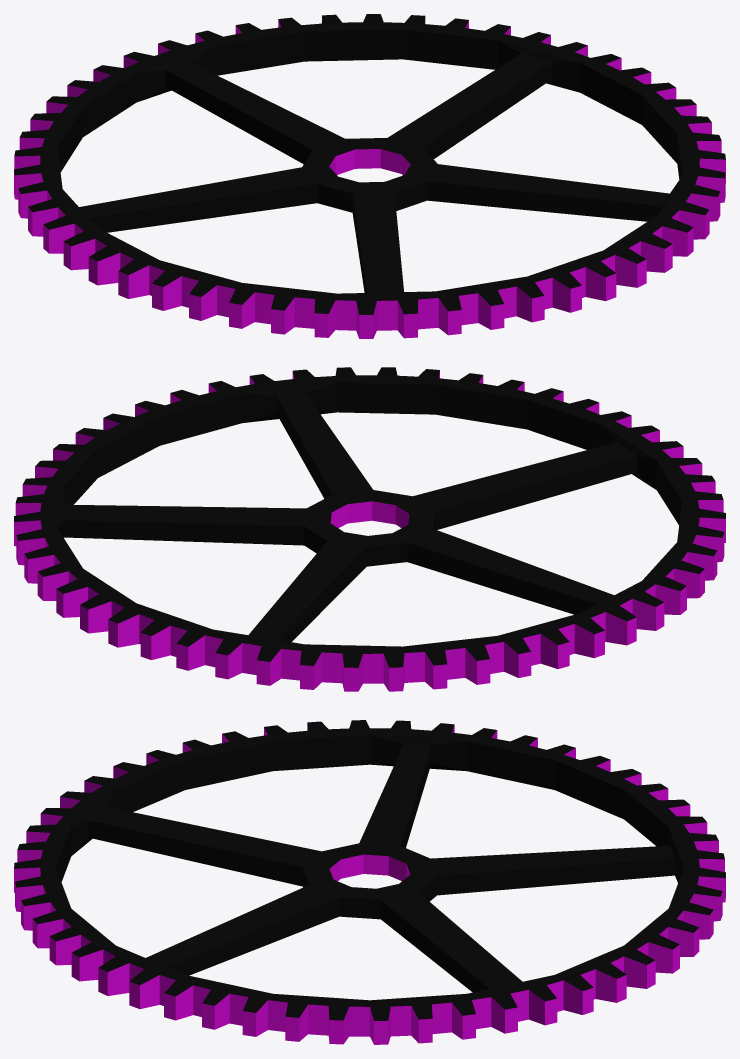
Rendered from D5GearV2.fbx.
The picture shows the model from 3 angles, top to bottom: view 1: azimuth 30°, elevation 25°; view 2: azimuth 150°, elevation 25°; view 3: azimuth 270°, elevation 25°; orthographic projection.
Parts seen in each view (by area): view 1: D5GearV2; view 2: D5GearV2; view 3: D5GearV2.
Boxes of the visible parts, box(x1,y1,x2,y2) form: D5GearV2: box(14, 14, 725, 338); D5GearV2: box(14, 367, 725, 691); D5GearV2: box(14, 720, 725, 1044).
Size of the model in its own units: 10.8 by 0.5 by 10.8.
